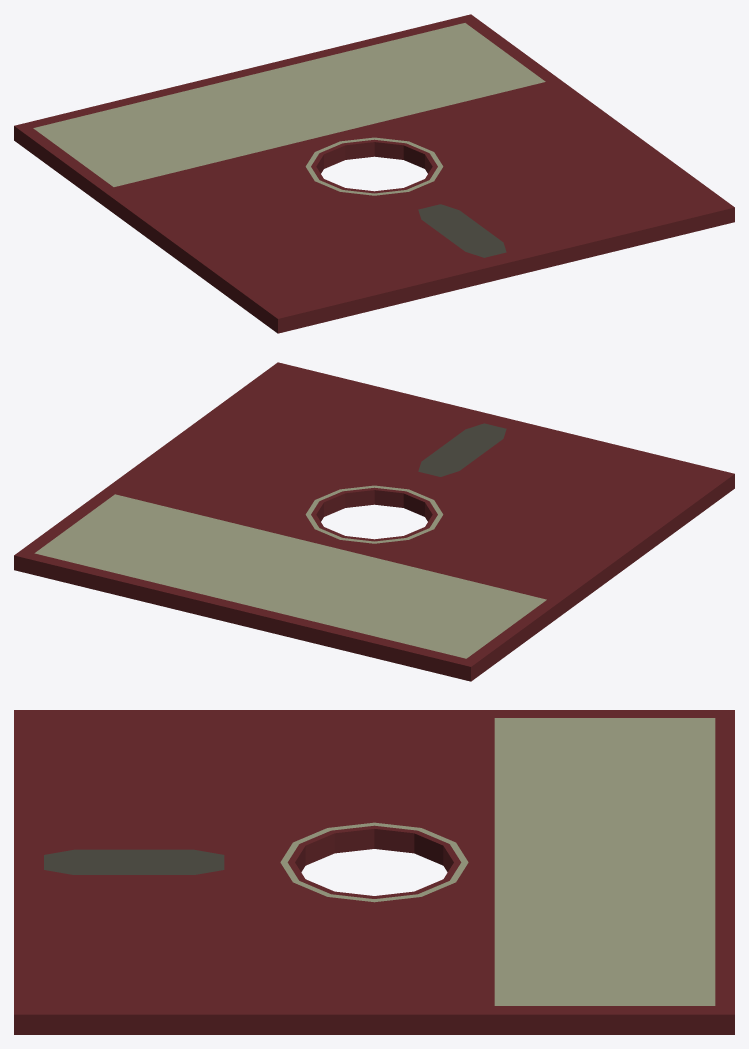
Rendered from FloppyDiscRed.fbx.
The picture shows the model from 3 angles, top to bottom: view 1: azimuth 30°, elevation 25°; view 2: azimuth 150°, elevation 25°; view 3: azimuth 270°, elevation 25°; orthographic projection. The views are drawn at different scales.
Visible parts, largest first — view 1: 5.25FloppyDiskRed; view 2: 5.25FloppyDiskRed; view 3: 5.25FloppyDiskRed.
Boxes of the visible parts, left/top/right/bottom form: 5.25FloppyDiskRed: left=14, top=14, right=734, bottom=333; 5.25FloppyDiskRed: left=14, top=362, right=734, bottom=681; 5.25FloppyDiskRed: left=14, top=710, right=734, bottom=1034.
Size of the model in its own units: 13.27 by 0.4085 by 13.27.
